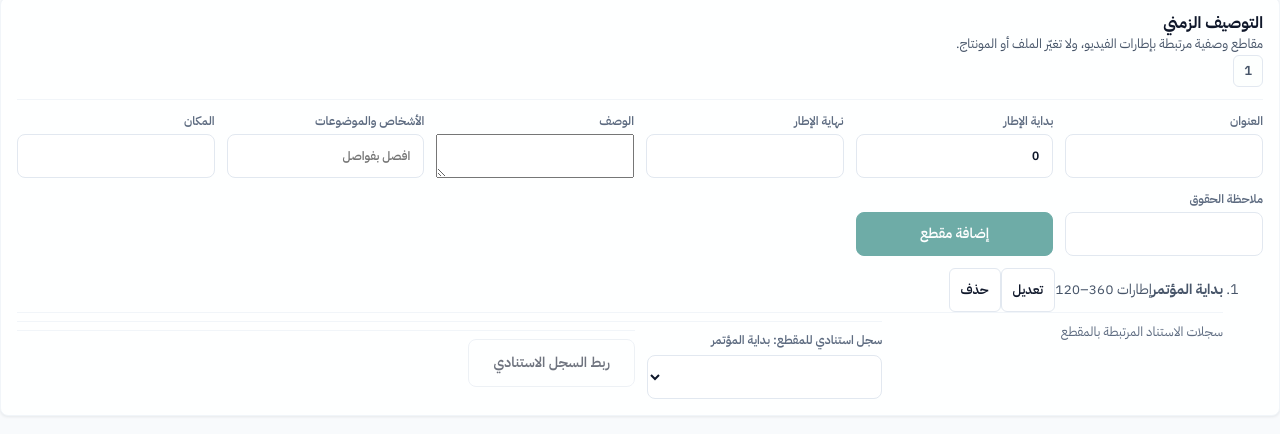
Test: TimedDescriptionSegmentsPanel › removes a mistaken timed segment without touching the record
Click the button with aria-label "حذف المقطع: بداية المؤتمر": click(974, 290) 948,268 -> 1000,312
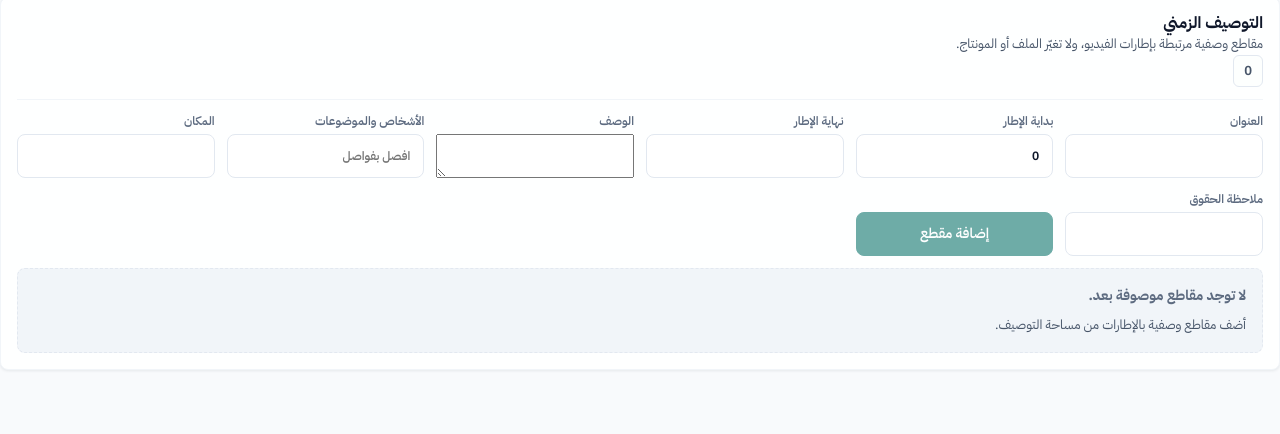
Expected: the text "بداية المؤتمر" is gone
